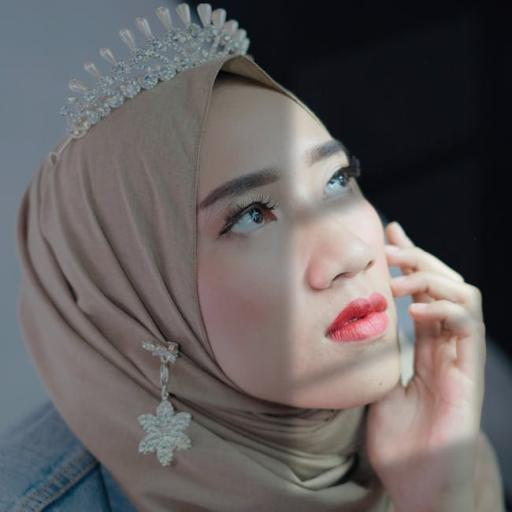lipstick: (327, 293, 388, 341)
